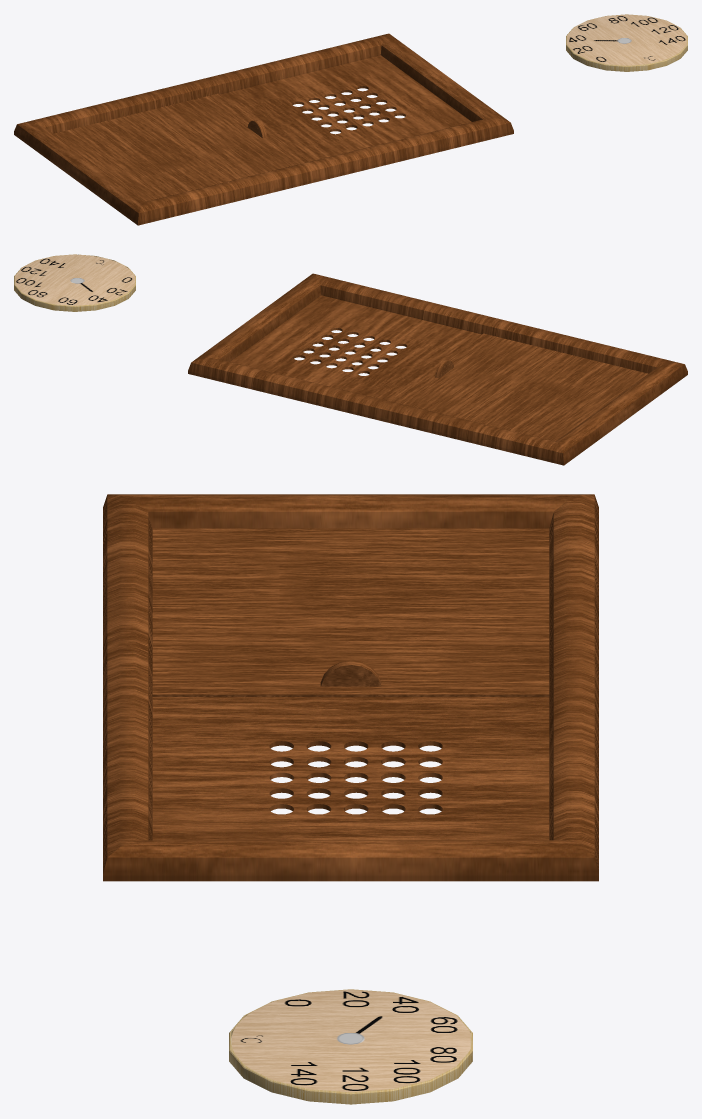
The model's file is KuuraSaunaJutut.FBX.
3 views of the same model, one above another, from view 1: azimuth 30°, elevation 25°; view 2: azimuth 150°, elevation 25°; view 3: azimuth 270°, elevation 25° (orthographic). The views are drawn at different scales.
Visible parts, largest first — view 1: SaunaIlmastointi (×2), Lämpömittari; view 2: SaunaIlmastointi (×2), Lämpömittari; view 3: SaunaIlmastointi (×2), Lämpömittari.
Part boxes in pixels (left/top/right/bottom): SaunaIlmastointi (×2): left=14, top=33, right=513, bottom=225; Lämpömittari: left=566, top=14, right=687, bottom=71; SaunaIlmastointi (×2): left=188, top=273, right=687, bottom=465; Lämpömittari: left=14, top=254, right=135, bottom=311; SaunaIlmastointi (×2): left=103, top=494, right=598, bottom=881; Lämpömittari: left=229, top=989, right=472, bottom=1104.
Bounding box in the file's own units: 56.3 × 1.3 × 20.
Materials: 3 (3 with a texture image).
